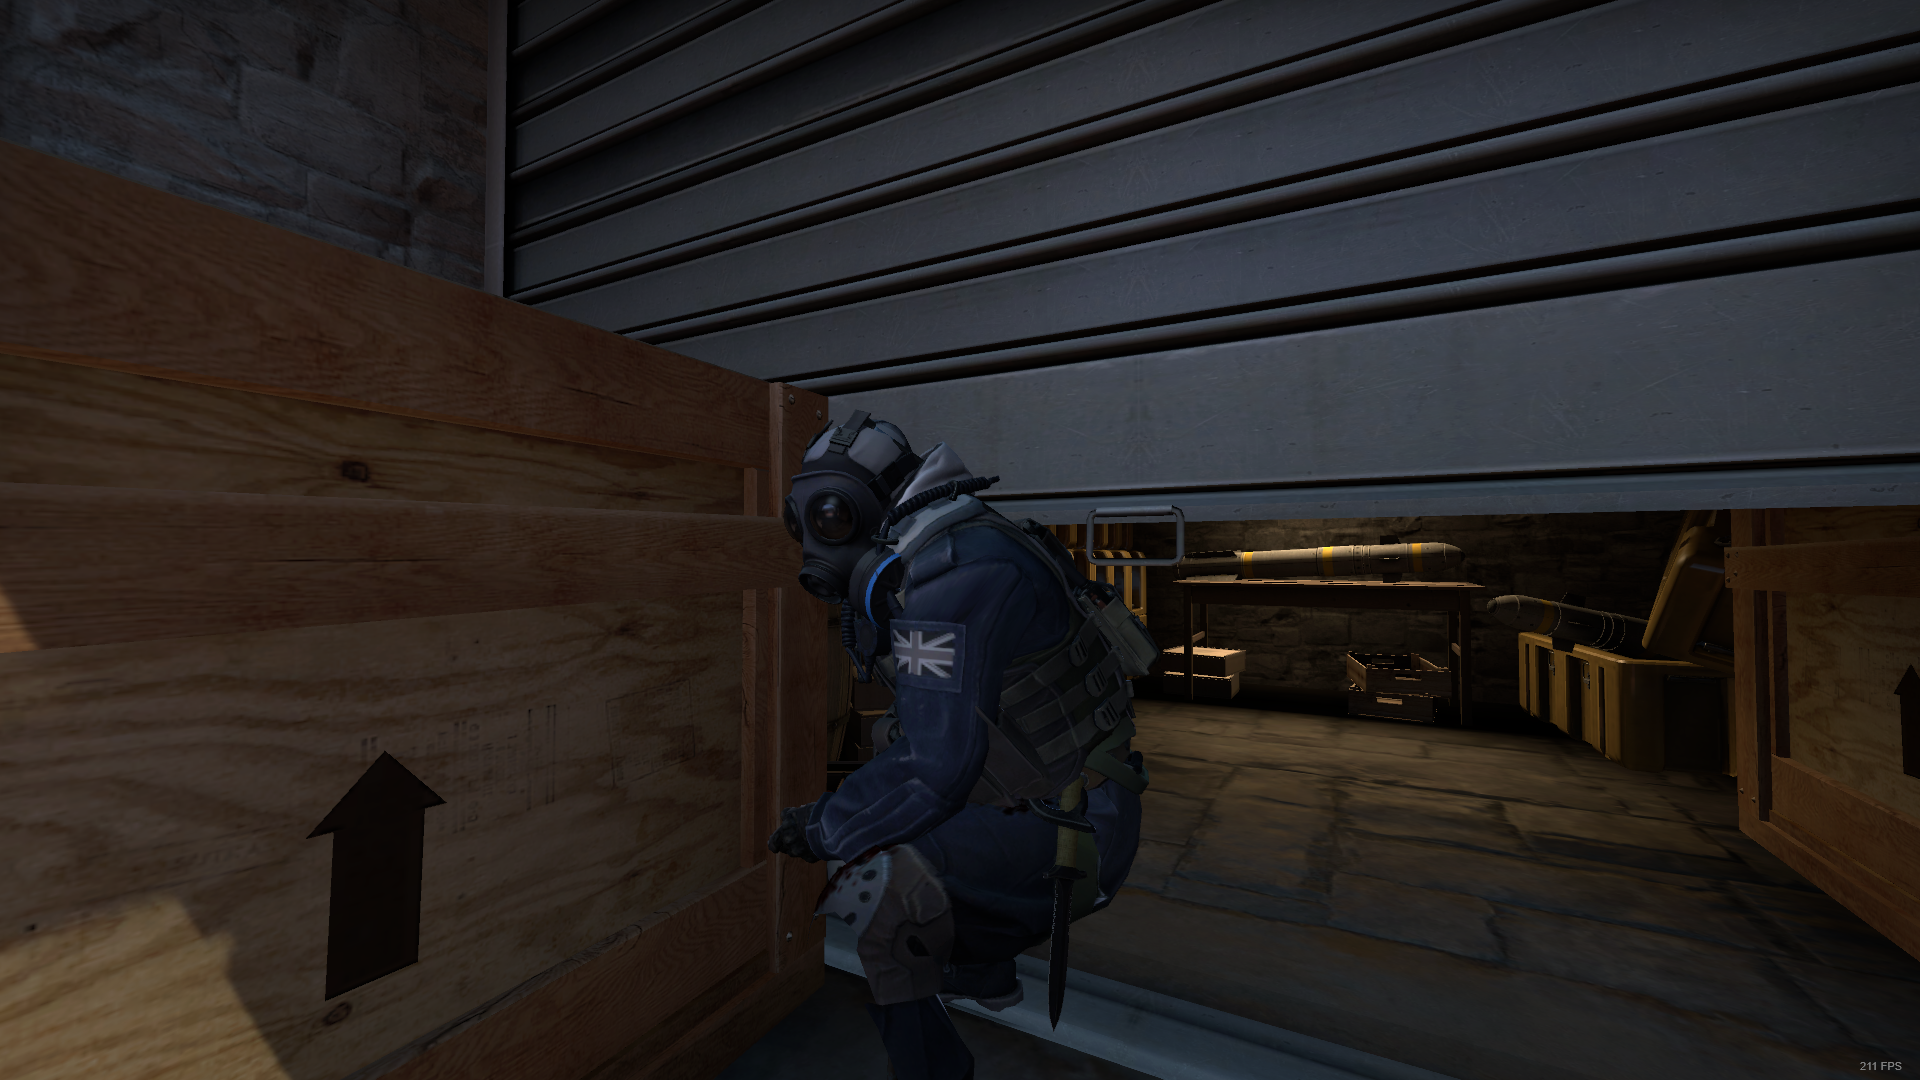ct: (766, 413, 1146, 1080)
